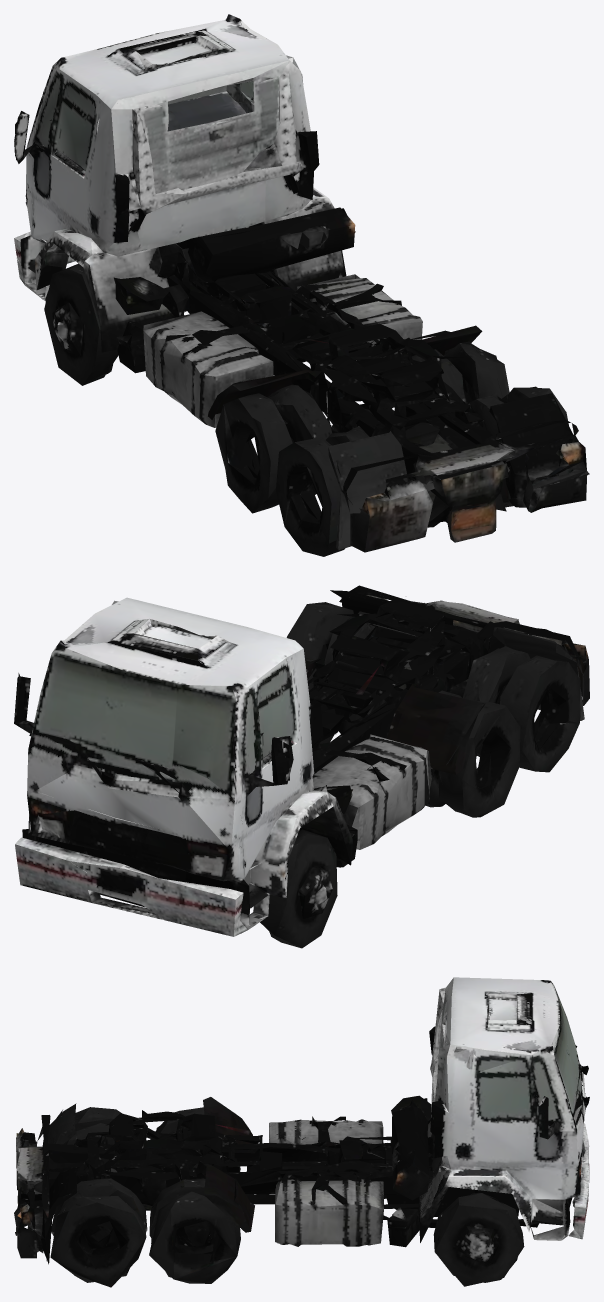
Rendered from cavalinho.glb.
The picture shows the model from 3 angles, top to bottom: view 1: azimuth 30°, elevation 25°; view 2: azimuth 150°, elevation 25°; view 3: azimuth 270°, elevation 25°; orthographic projection. The views are drawn at different scales.
Parts seen in each view (by area): view 1: corpo; view 2: corpo; view 3: corpo.
Boxes of the visible parts, box(x1,y1,x2,y2) form: corpo: box(14, 14, 589, 556); corpo: box(14, 585, 589, 948); corpo: box(14, 977, 589, 1287).
Bounding box in the file's own units: 3.1 × 3.15 × 7.
1 material, 1 textured.
